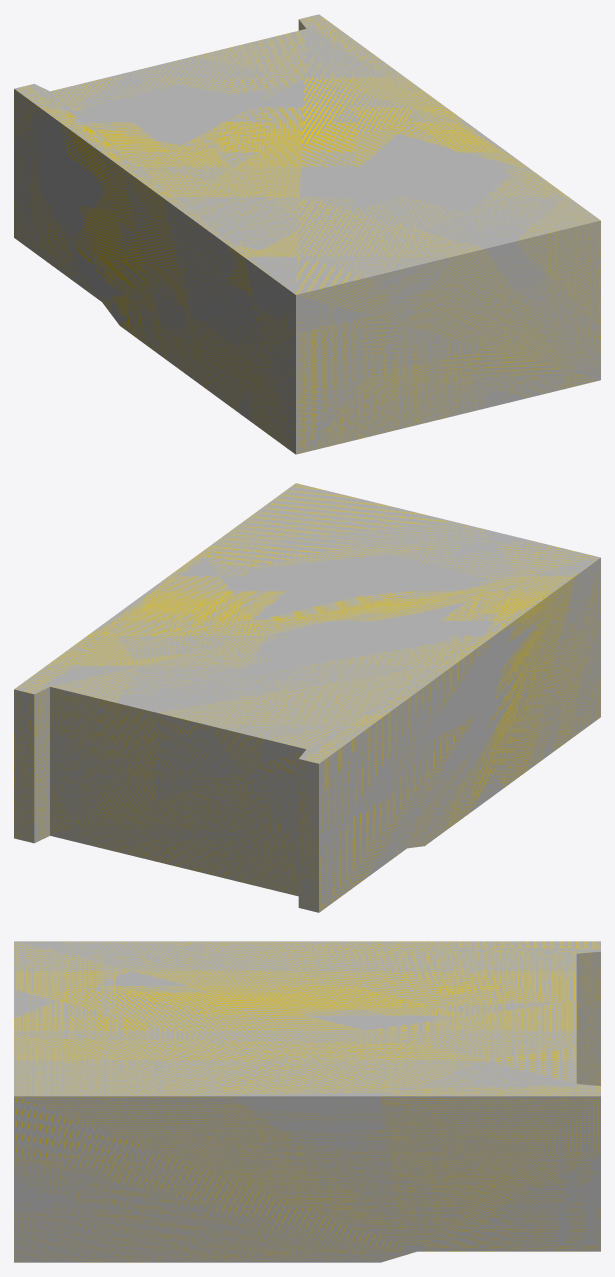
3 renders of one model, top to bottom at view 1: azimuth 30°, elevation 25°; view 2: azimuth 150°, elevation 25°; view 3: azimuth 270°, elevation 25°, orthographic. The views are drawn at different scales.
Visible parts, largest first — view 1: fume hood; view 2: fume hood; view 3: fume hood.
Part boxes in pixels (box(x1,y1,x2,y2)): fume hood: box(14, 14, 600, 454); fume hood: box(14, 483, 600, 912); fume hood: box(14, 941, 600, 1262).
Bounding box in the file's own units: 59.06 × 29.53 × 94.49.
